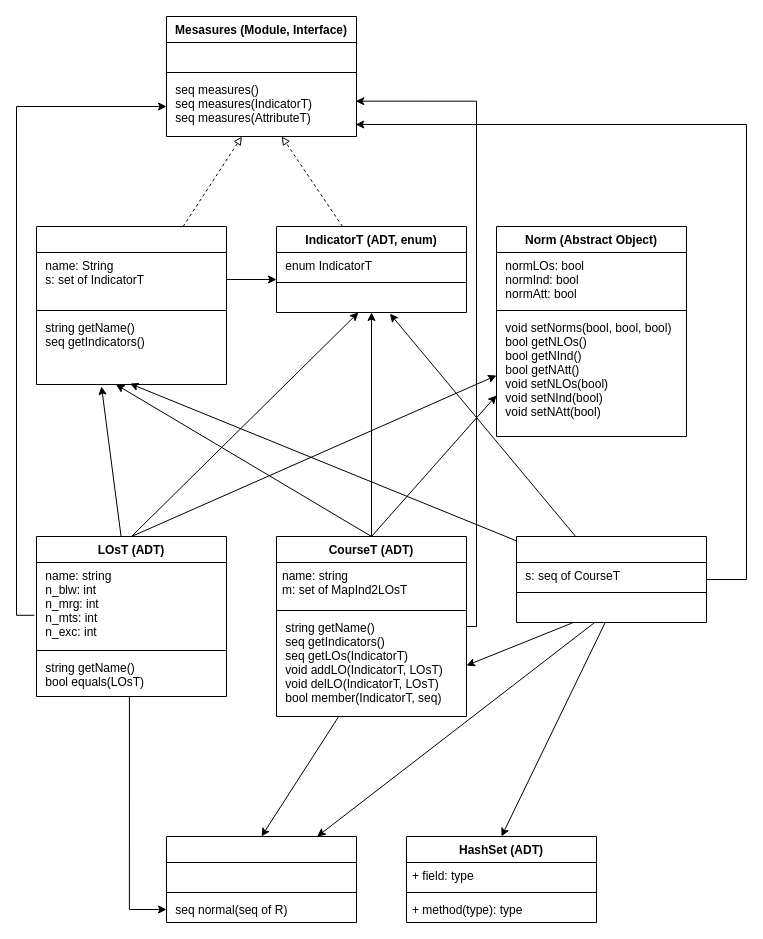
Some shapes in this 763 by 939 pixel diagram are drawn without their labels. The shapes that lost their labels are listed below. From the top down, each one's box as (x1, y1, x2, y2) in pixels, then its label:
(36, 226, 226, 384): AttributeT (ADT)
(516, 536, 706, 622): ProgramT (ADT)
(166, 836, 356, 922): Services (Libraries)
